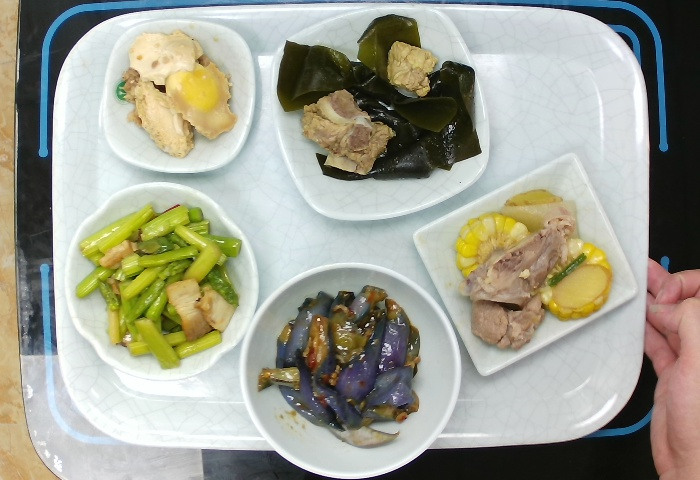JYsf-Ao_Yuan_Wan: (65, 176, 263, 381)
JYsf-Fan_Wan: (238, 256, 463, 480)
JYsf-Si_Fang_Die: (97, 13, 259, 178)
WCQzf-Da_Si_Fang_Die: (260, 1, 494, 227)
WCQzf-Ru_Ci_Si_Fang_Die: (414, 150, 641, 382)
